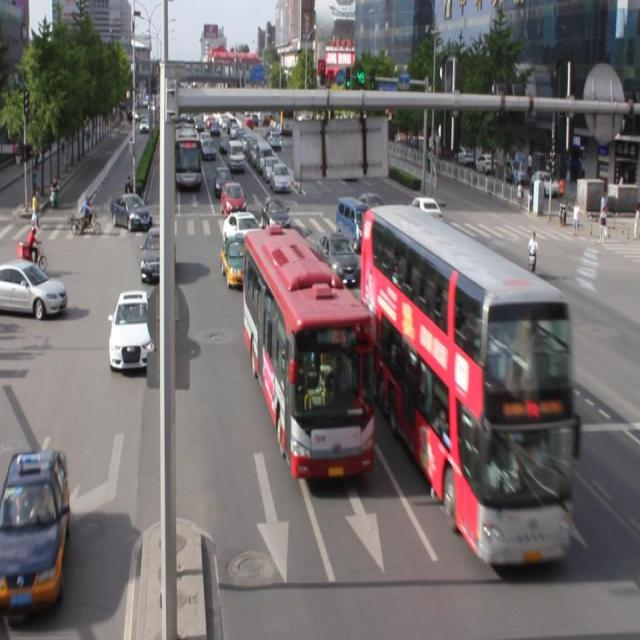car: (1, 449, 69, 612), (474, 252, 530, 319), (109, 289, 154, 369), (316, 232, 360, 287), (140, 227, 176, 280), (220, 233, 252, 287), (223, 211, 262, 252)
van: (364, 206, 572, 568), (245, 232, 373, 479)
